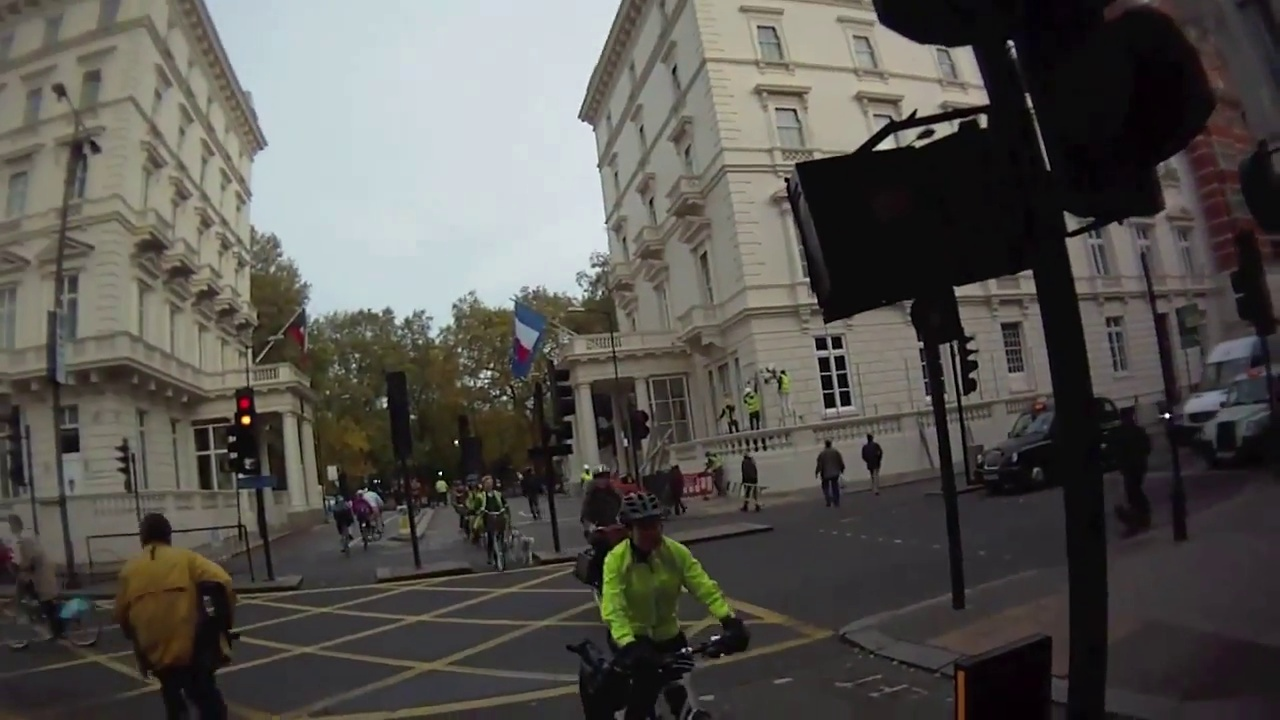cyclist_front: (579, 467, 624, 605), (472, 475, 518, 578)
